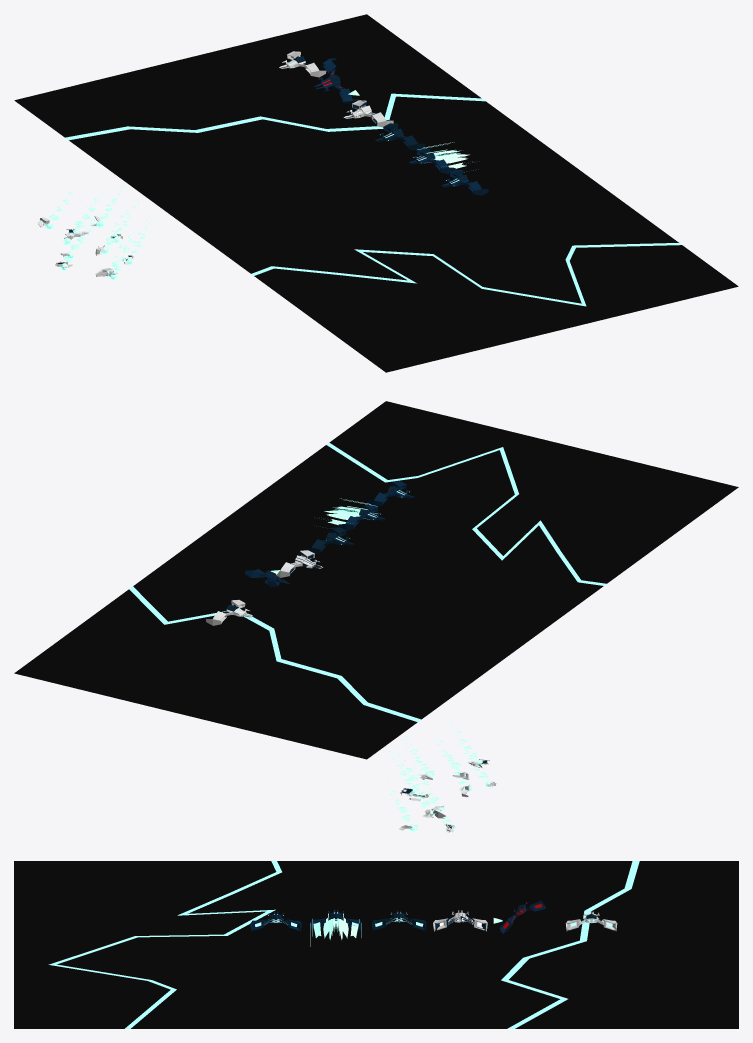
The model's file is Ship.fbx.
3 renders of one model, top to bottom at view 1: azimuth 30°, elevation 25°; view 2: azimuth 150°, elevation 25°; view 3: azimuth 270°, elevation 25°, orthographic. The views are drawn at different scales.
Visible parts, largest first — view 1: Plane, fuel low, Base ship.002; view 2: Plane, Base ship.002; view 3: Plane, Armored/stealth Ship, Speed trail, Base ship, Base ship.003, fuel low, Speed boost, Energy shield.
Boxes of the visible parts, x1,y1,x2,y2 form: Plane: (14,14,738,372); fuel low: (314,58,358,104); Base ship.002: (37,216,133,276); Plane: (14,401,738,759); Base ship.002: (398,759,496,832); Plane: (14,861,738,1028); Armored/stealth Ship: (372,910,426,931); Speed trail: (313,918,358,939); Base ship: (250,911,301,931); Base ship.003: (565,911,617,931); fuel low: (499,900,545,934); Speed boost: (310,909,361,931); Energy shield: (433,910,487,931).
Size of what is drawn, in the model's own units: 9840 by 4358 by 16106.
